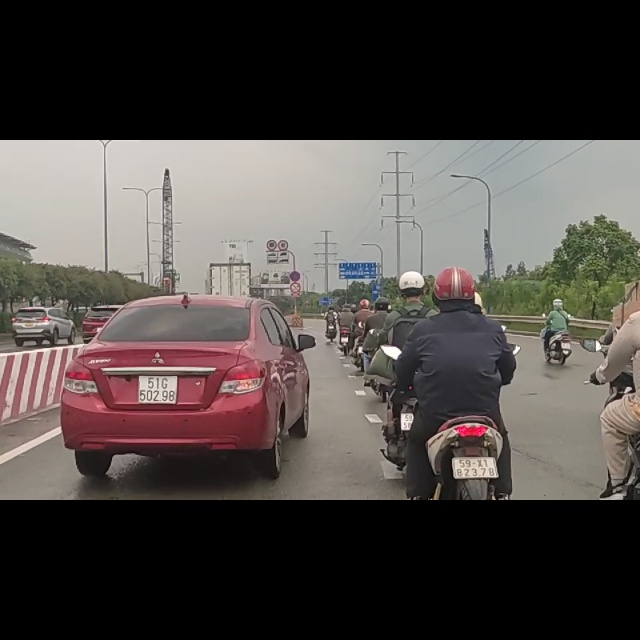bien_chi_dan: (289, 232, 301, 252)
